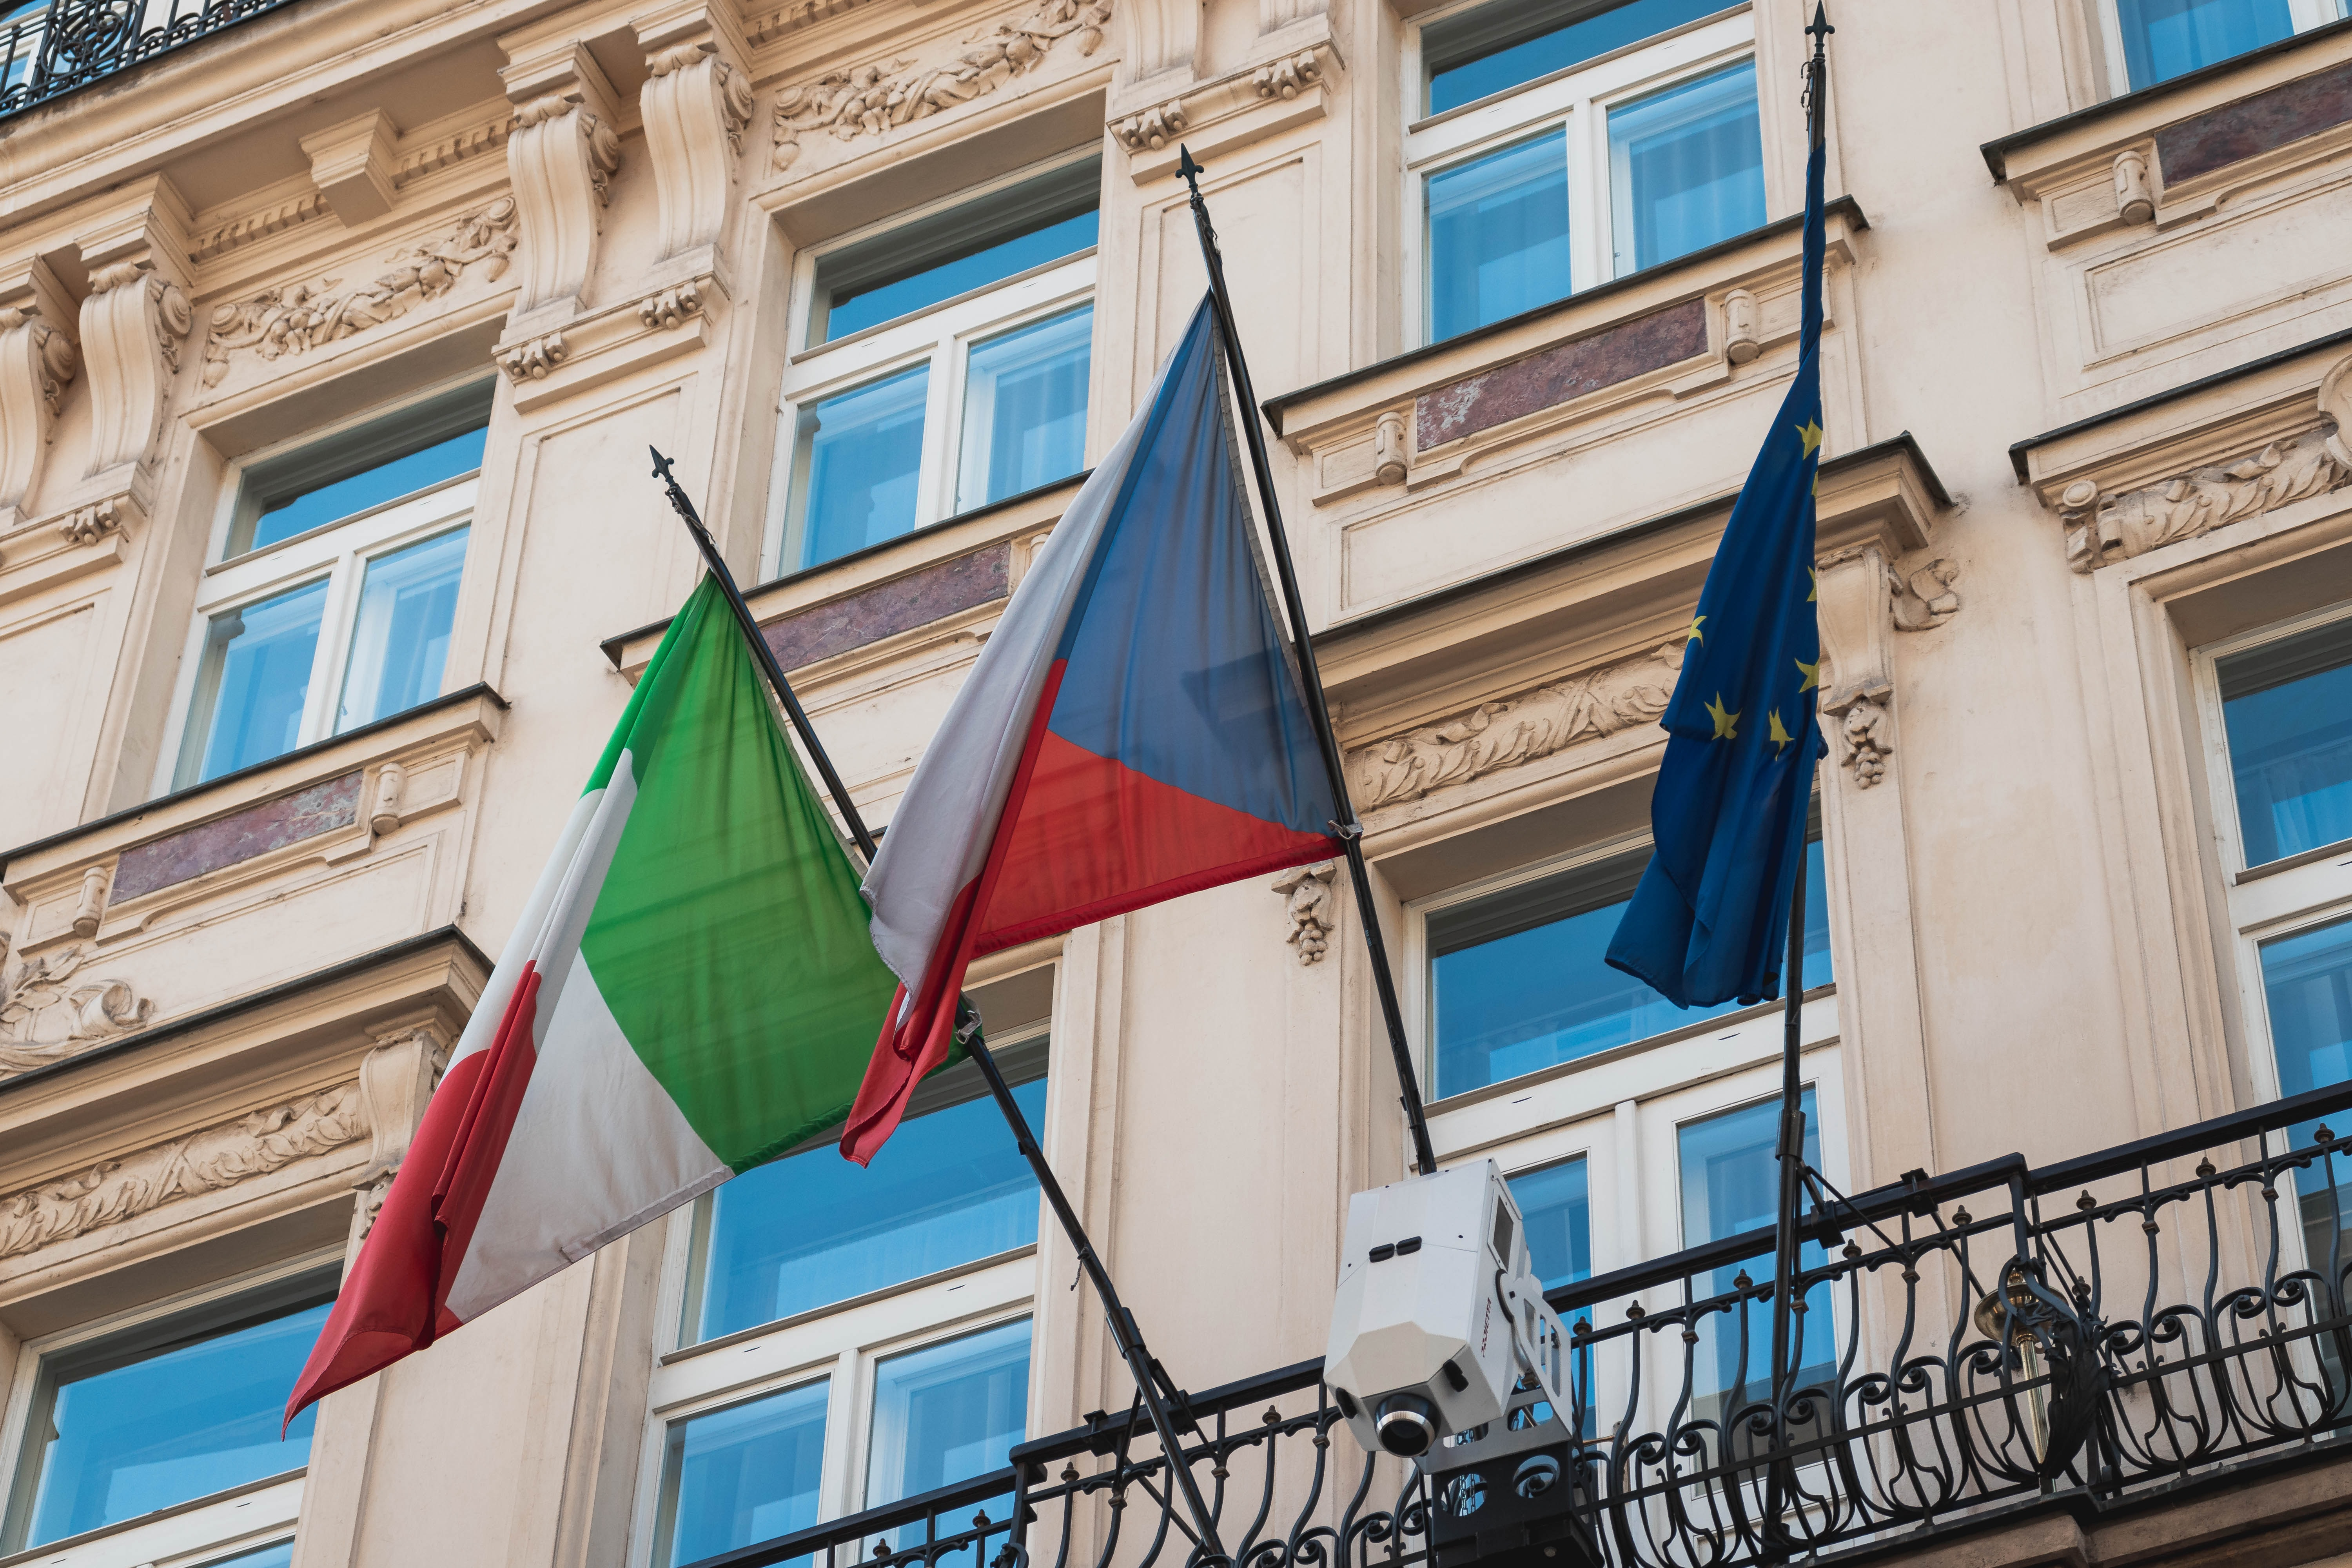Flag: (285, 574, 1012, 1398), (829, 284, 1360, 1176), (1600, 352, 1888, 1022)
